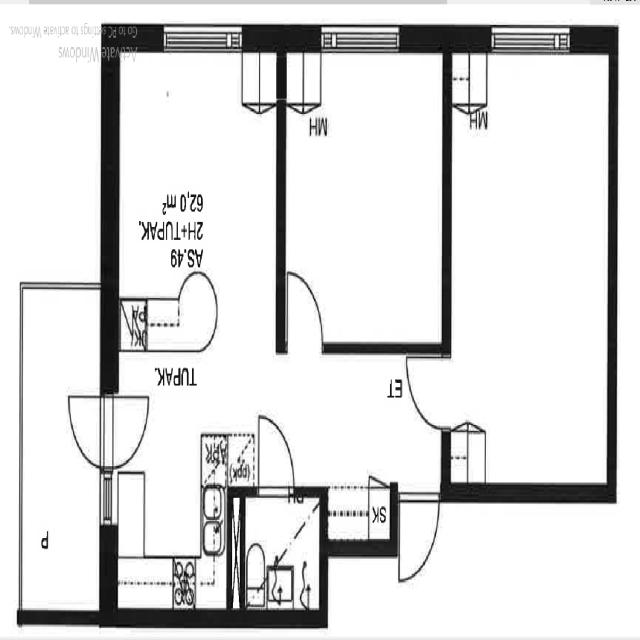door: (62, 385, 150, 473), (280, 262, 332, 382), (396, 482, 442, 590), (250, 409, 300, 501), (403, 344, 451, 432), (366, 473, 392, 540)
window: (157, 12, 247, 63), (316, 12, 405, 62), (484, 16, 574, 64), (95, 466, 116, 530)
zone: (447, 42, 614, 497), (110, 39, 284, 355), (282, 43, 448, 350), (109, 352, 232, 613), (236, 493, 323, 617)
